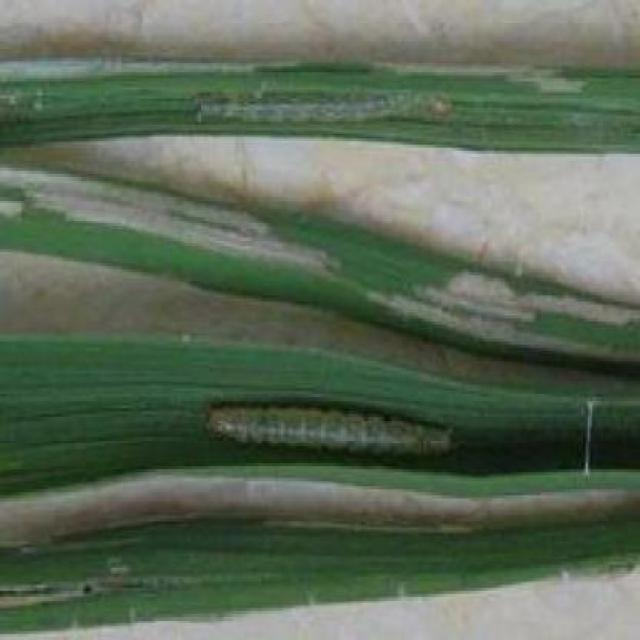leaf-folder: (186, 379, 480, 483), (183, 70, 485, 152)
